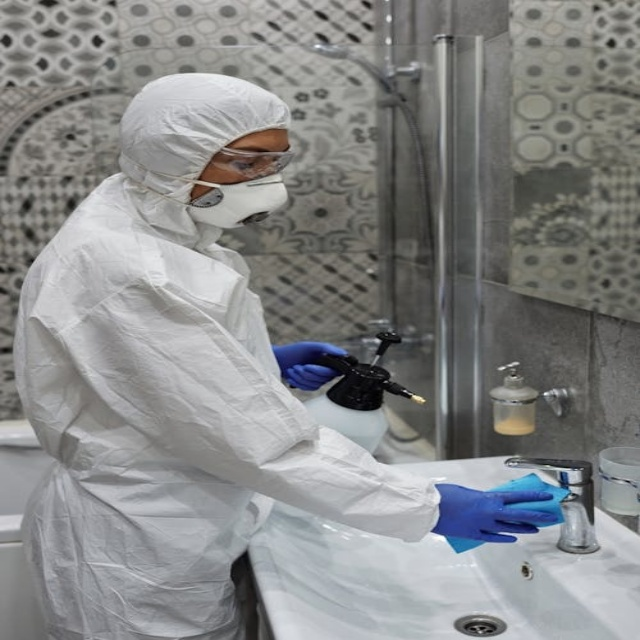Gafas: (154, 144, 297, 182)
Guantes: (431, 478, 561, 549), (272, 341, 353, 389)
Mascara: (177, 171, 289, 230)
